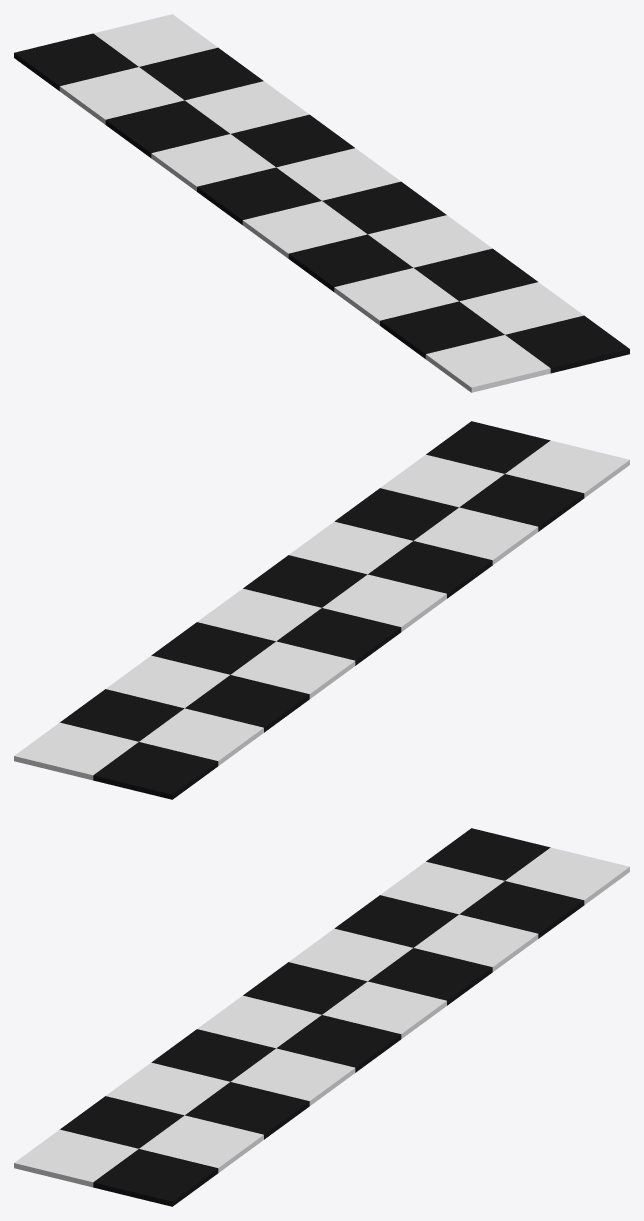
Rendered from Finish.obj.
3 renders of one model, top to bottom at view 1: azimuth 30°, elevation 25°; view 2: azimuth 150°, elevation 25°; view 3: azimuth 330°, elevation 25°, orthographic.
Size of the model in its own units: 3.2 by 0.1 by 16.
Materials: 1 (1 with a texture image).
